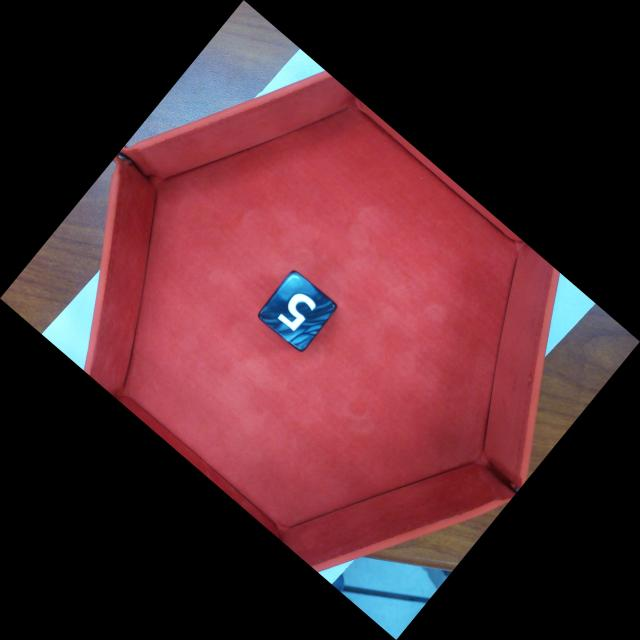dice: (256, 271, 338, 354)
